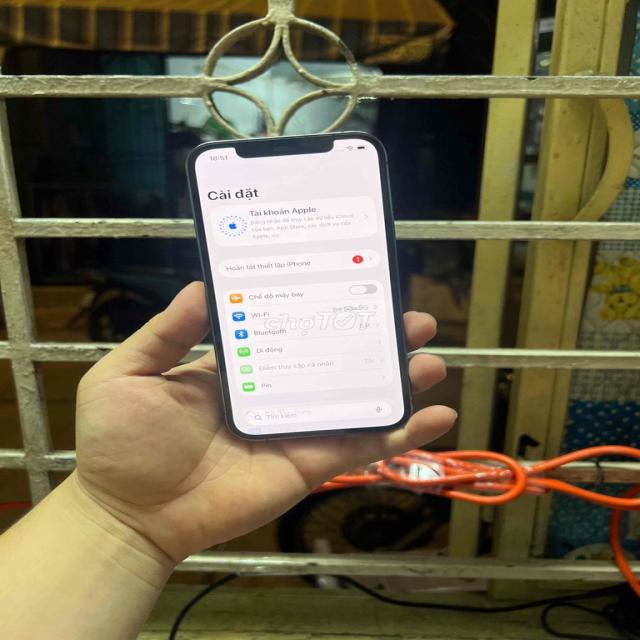gen_12_13: (188, 132, 411, 440)
